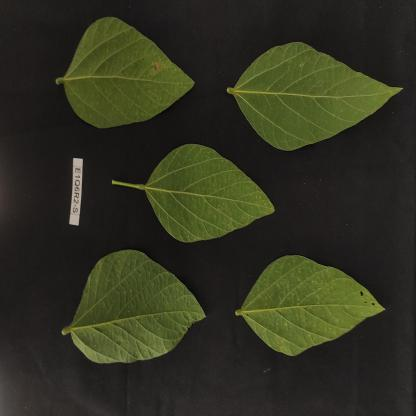label: (61, 150, 85, 232)
leaflets: (235, 30, 408, 151), (65, 245, 202, 390), (52, 13, 219, 131), (119, 129, 280, 246), (246, 236, 386, 367)
